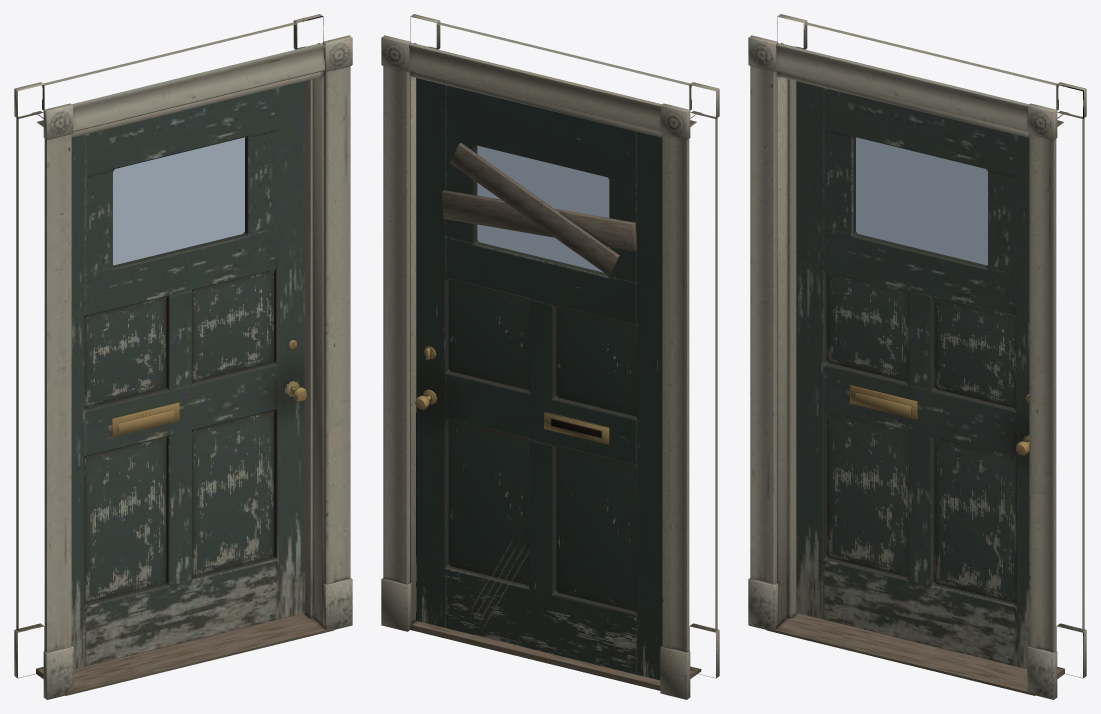
The model's file is door.glb.
3 views of the same model, side by side, from view 1: azimuth 30°, elevation 25°; view 2: azimuth 150°, elevation 25°; view 3: azimuth 330°, elevation 25° (orthographic).
Visible parts, largest first — view 1: door_leaf, door_frame, door_window; view 2: door_leaf, door_frame, door_window; view 3: door_leaf, door_frame, door_window.
Part boxes in pixels (bbox=[...]): door_leaf: bbox=[71, 81, 307, 669]; door_frame: bbox=[14, 14, 352, 699]; door_window: bbox=[113, 137, 244, 265]; door_leaf: bbox=[415, 78, 662, 680]; door_frame: bbox=[381, 14, 719, 699]; door_window: bbox=[477, 145, 609, 272]; door_leaf: bbox=[796, 81, 1029, 669]; door_frame: bbox=[748, 14, 1086, 699]; door_window: bbox=[856, 137, 987, 265].
Size of the model in its own units: 1.37 by 2.52 by 0.284.
2 materials, 1 textured.
